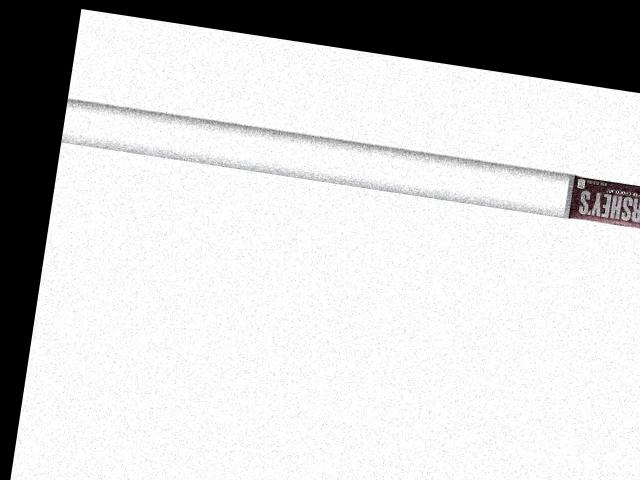chocolate: (563, 169, 640, 232)
